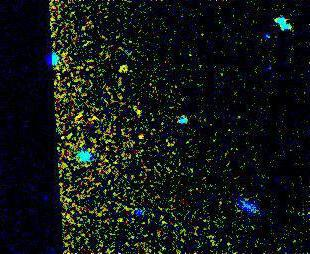star: (109, 53, 139, 83)
